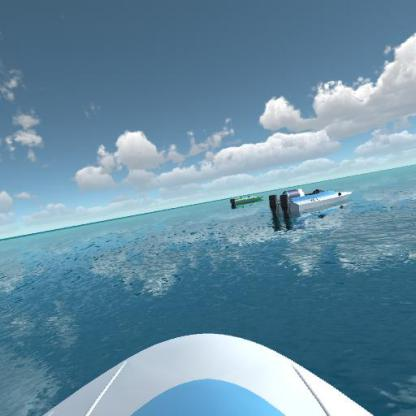usv0: (221, 188, 263, 210)
usv1: (264, 184, 359, 226)
